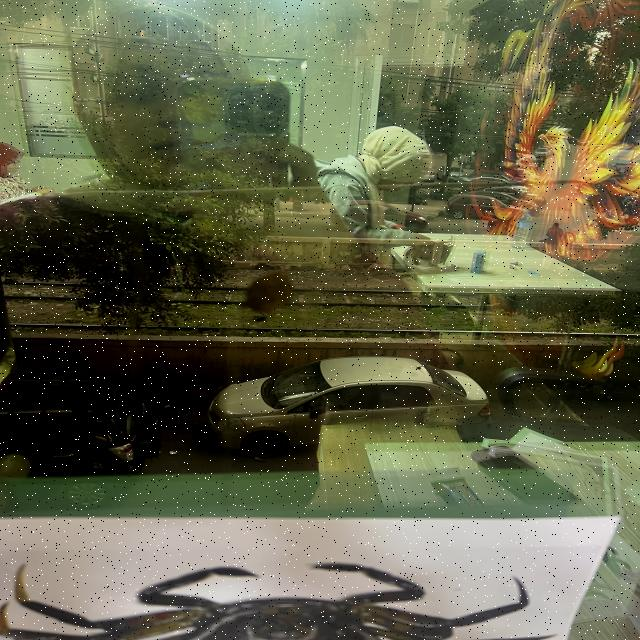European_Green_Crab: (0, 562, 556, 640)
